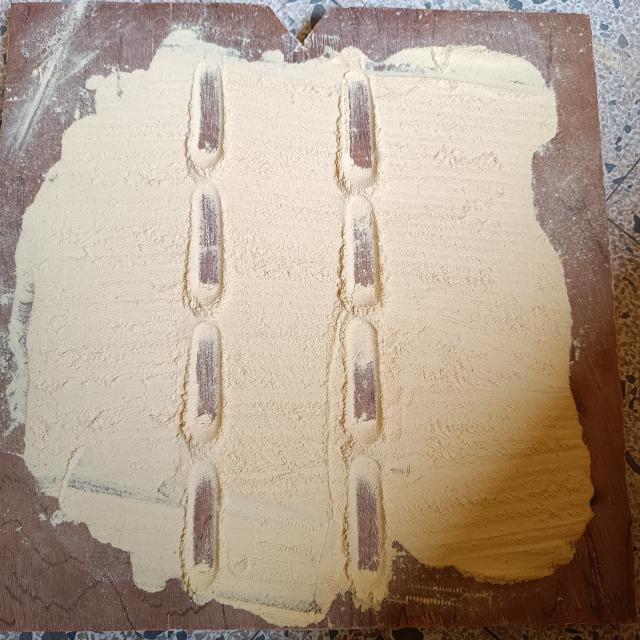single: (334, 314, 390, 456), (340, 452, 393, 602), (336, 190, 390, 319), (176, 456, 224, 598), (182, 179, 230, 316), (335, 64, 384, 195), (181, 58, 234, 178), (182, 324, 230, 454)
